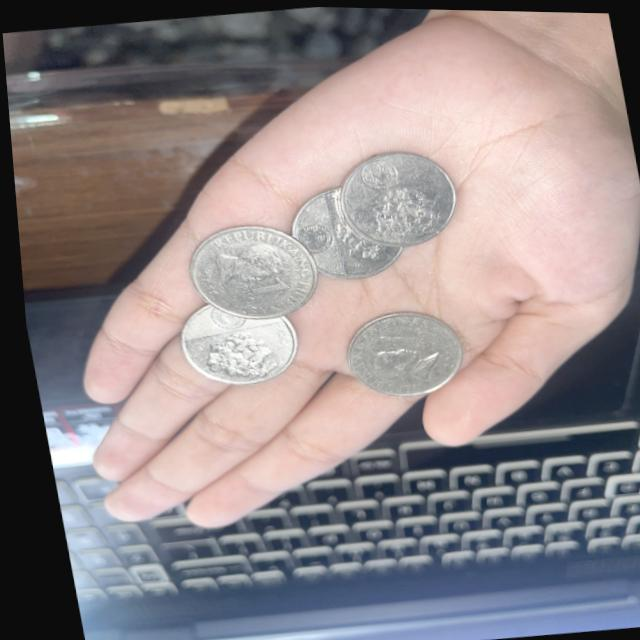1_New_Back: (354, 177, 451, 244), (191, 325, 280, 382)
1_Old_Front: (355, 319, 433, 355), (226, 267, 290, 306)
